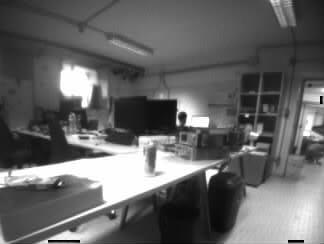Tin can: (144, 142, 156, 175)
